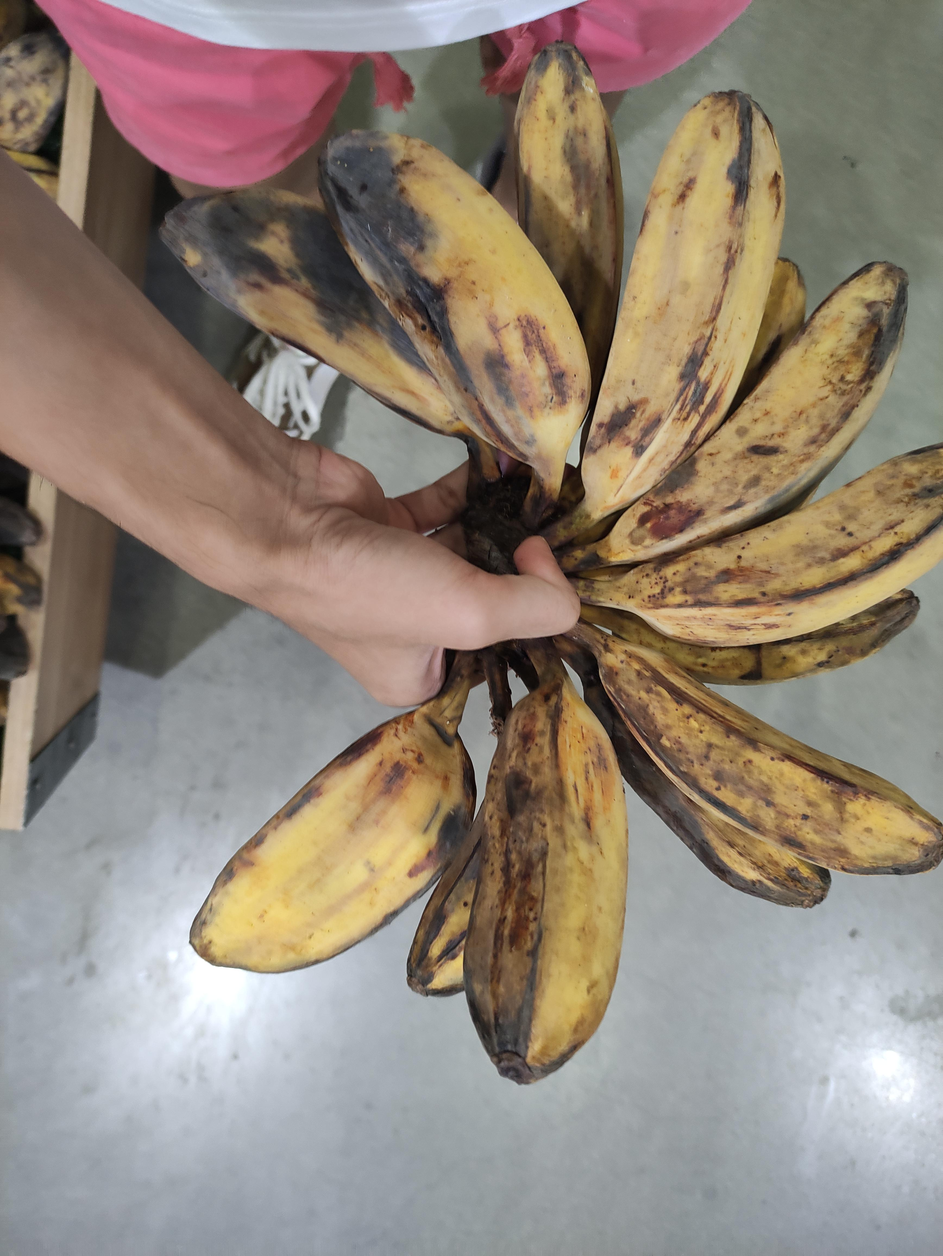ripe: (163, 44, 943, 1084)
